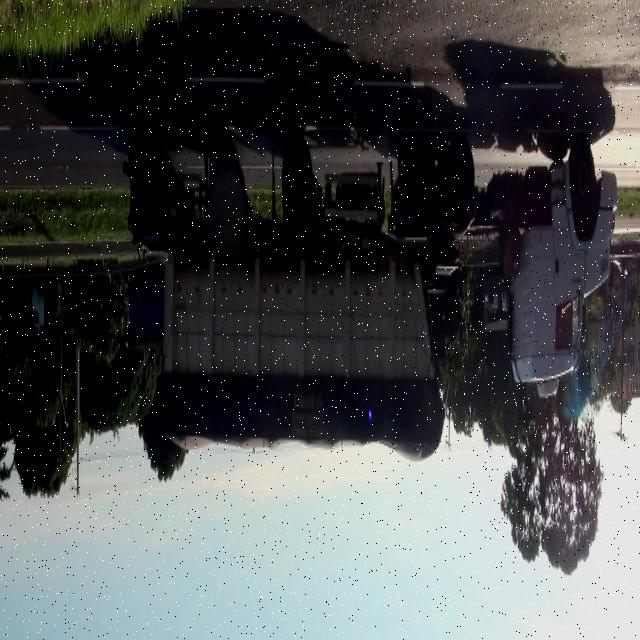-axle: (134, 140, 167, 228), (443, 135, 477, 220), (209, 137, 241, 227), (282, 136, 316, 220), (408, 142, 438, 222), (572, 142, 598, 217)
